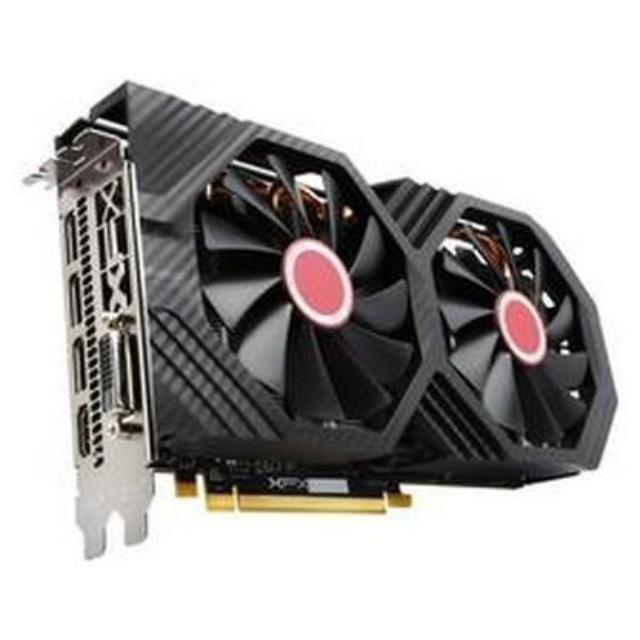GPU: (35, 80, 616, 540)
